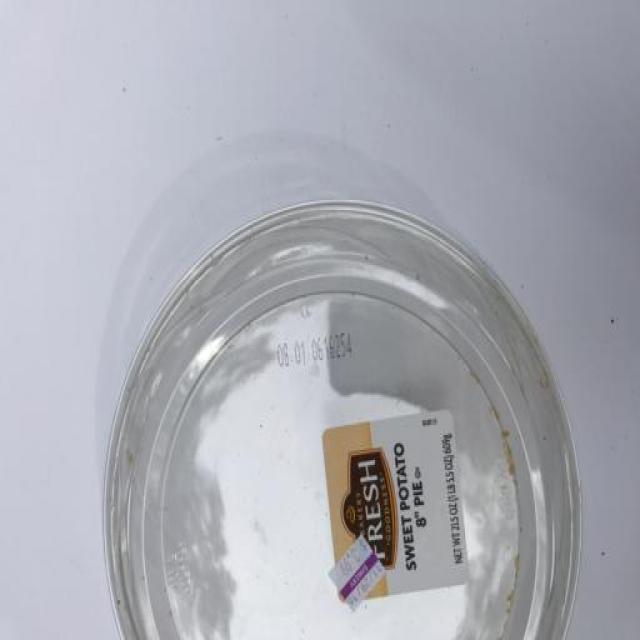plastic: (92, 194, 602, 640)
